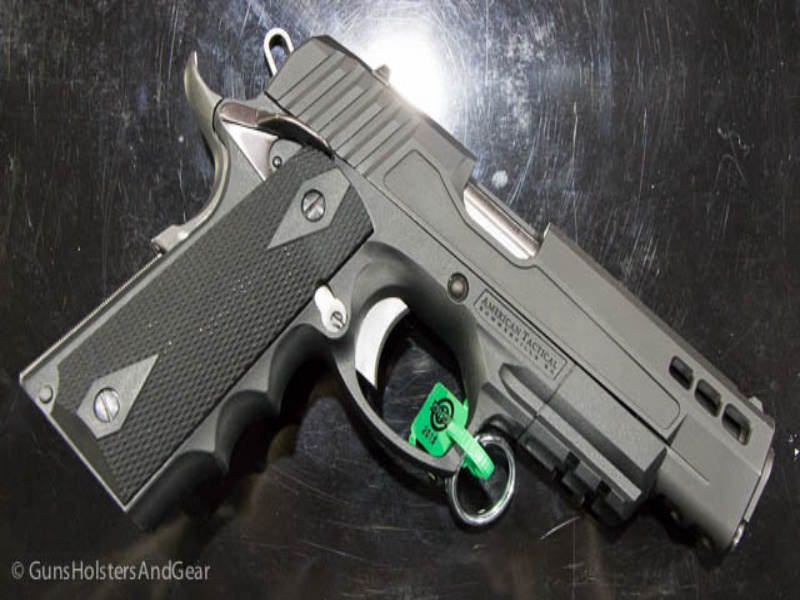gun: (13, 16, 773, 559)
